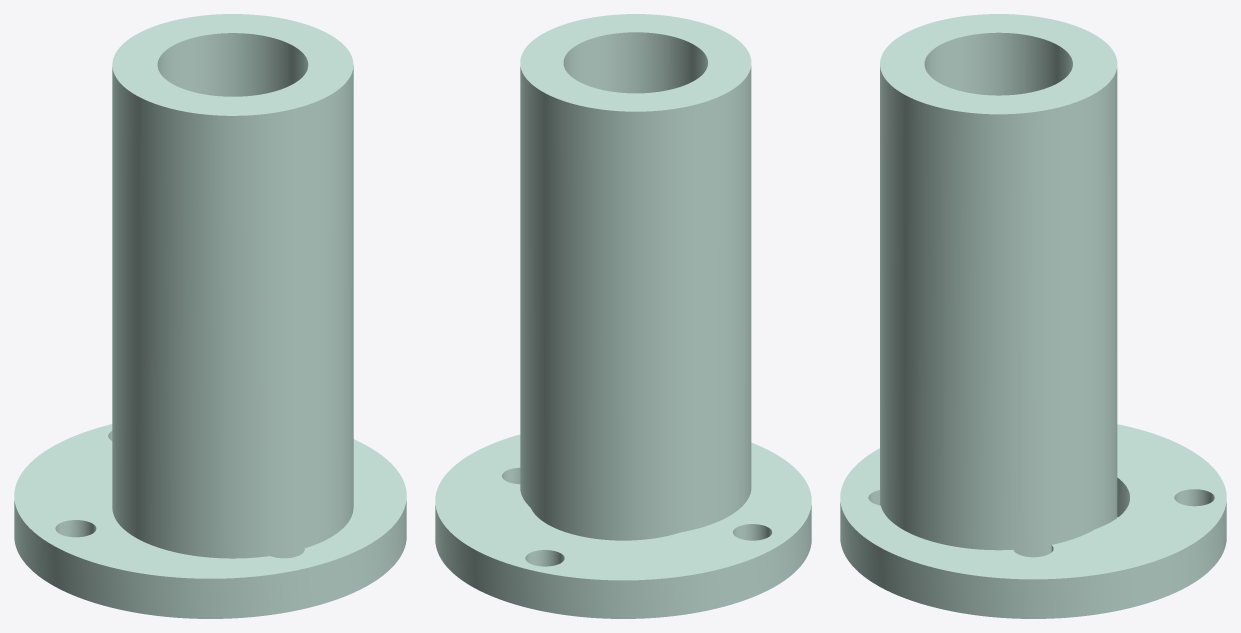
3 renders of one model, left to right at view 1: azimuth 30°, elevation 25°; view 2: azimuth 150°, elevation 25°; view 3: azimuth 270°, elevation 25°, orthographic. The views are drawn at different scales.
Parts seen in each view (by area): view 1: Renderer Node; view 2: Renderer Node; view 3: Renderer Node.
Part boxes in pixels (bbox=[...]): Renderer Node: bbox=[14, 14, 406, 618]; Renderer Node: bbox=[435, 14, 811, 618]; Renderer Node: bbox=[840, 14, 1226, 618].
Bounding box in the file's own units: 0.5525 × 0.75 × 0.5526.
